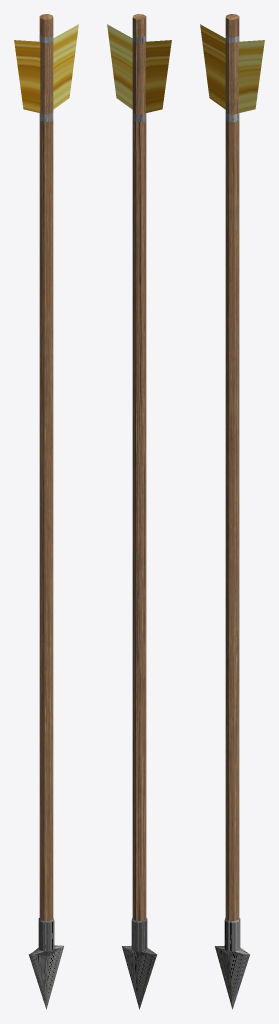
The model's file is Arrow.fbx.
3 renders of one model, left to right at view 1: azimuth 30°, elevation 25°; view 2: azimuth 150°, elevation 25°; view 3: azimuth 330°, elevation 25°, orthographic.
Parts seen in each view (by area): view 1: Arrow.003; view 2: Arrow.003; view 3: Arrow.003.
Boxes of the visible parts, x1,y1,x2,y2 form: Arrow.003: (14, 14, 78, 1009); Arrow.003: (107, 14, 171, 1009); Arrow.003: (200, 14, 264, 1009).
Size of the model in its own units: 5.94 by 1.3 by 86.87.
Materials: 3 (3 with a texture image).
